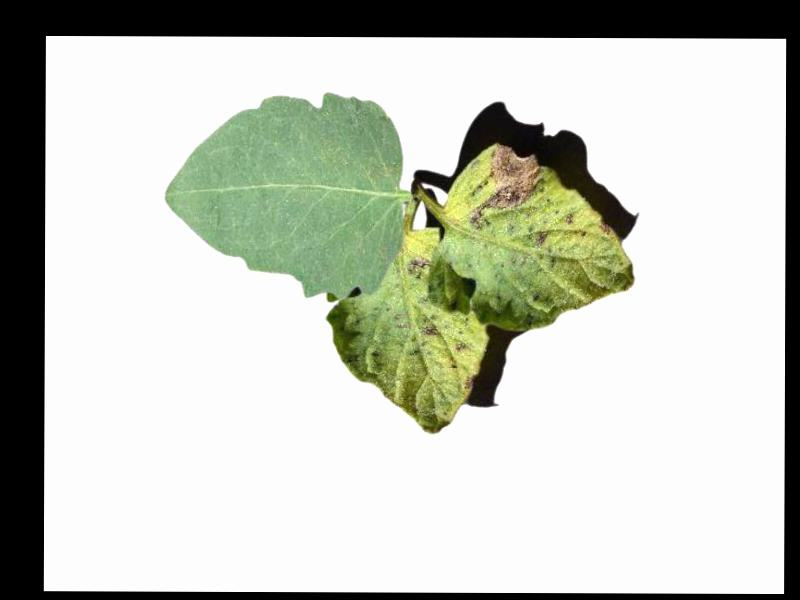Early_blight: (467, 143, 543, 233), (405, 254, 429, 281), (593, 219, 612, 237), (418, 327, 436, 339), (534, 234, 546, 250), (462, 377, 473, 392), (453, 341, 464, 353)
healthy: (164, 92, 413, 298)
